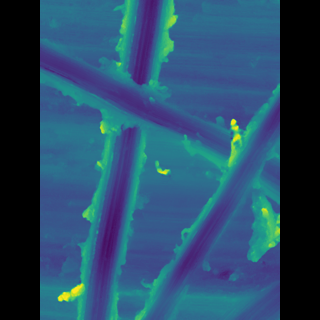Loch: (69, 34, 250, 207), (144, 81, 249, 319), (95, 0, 170, 320)
